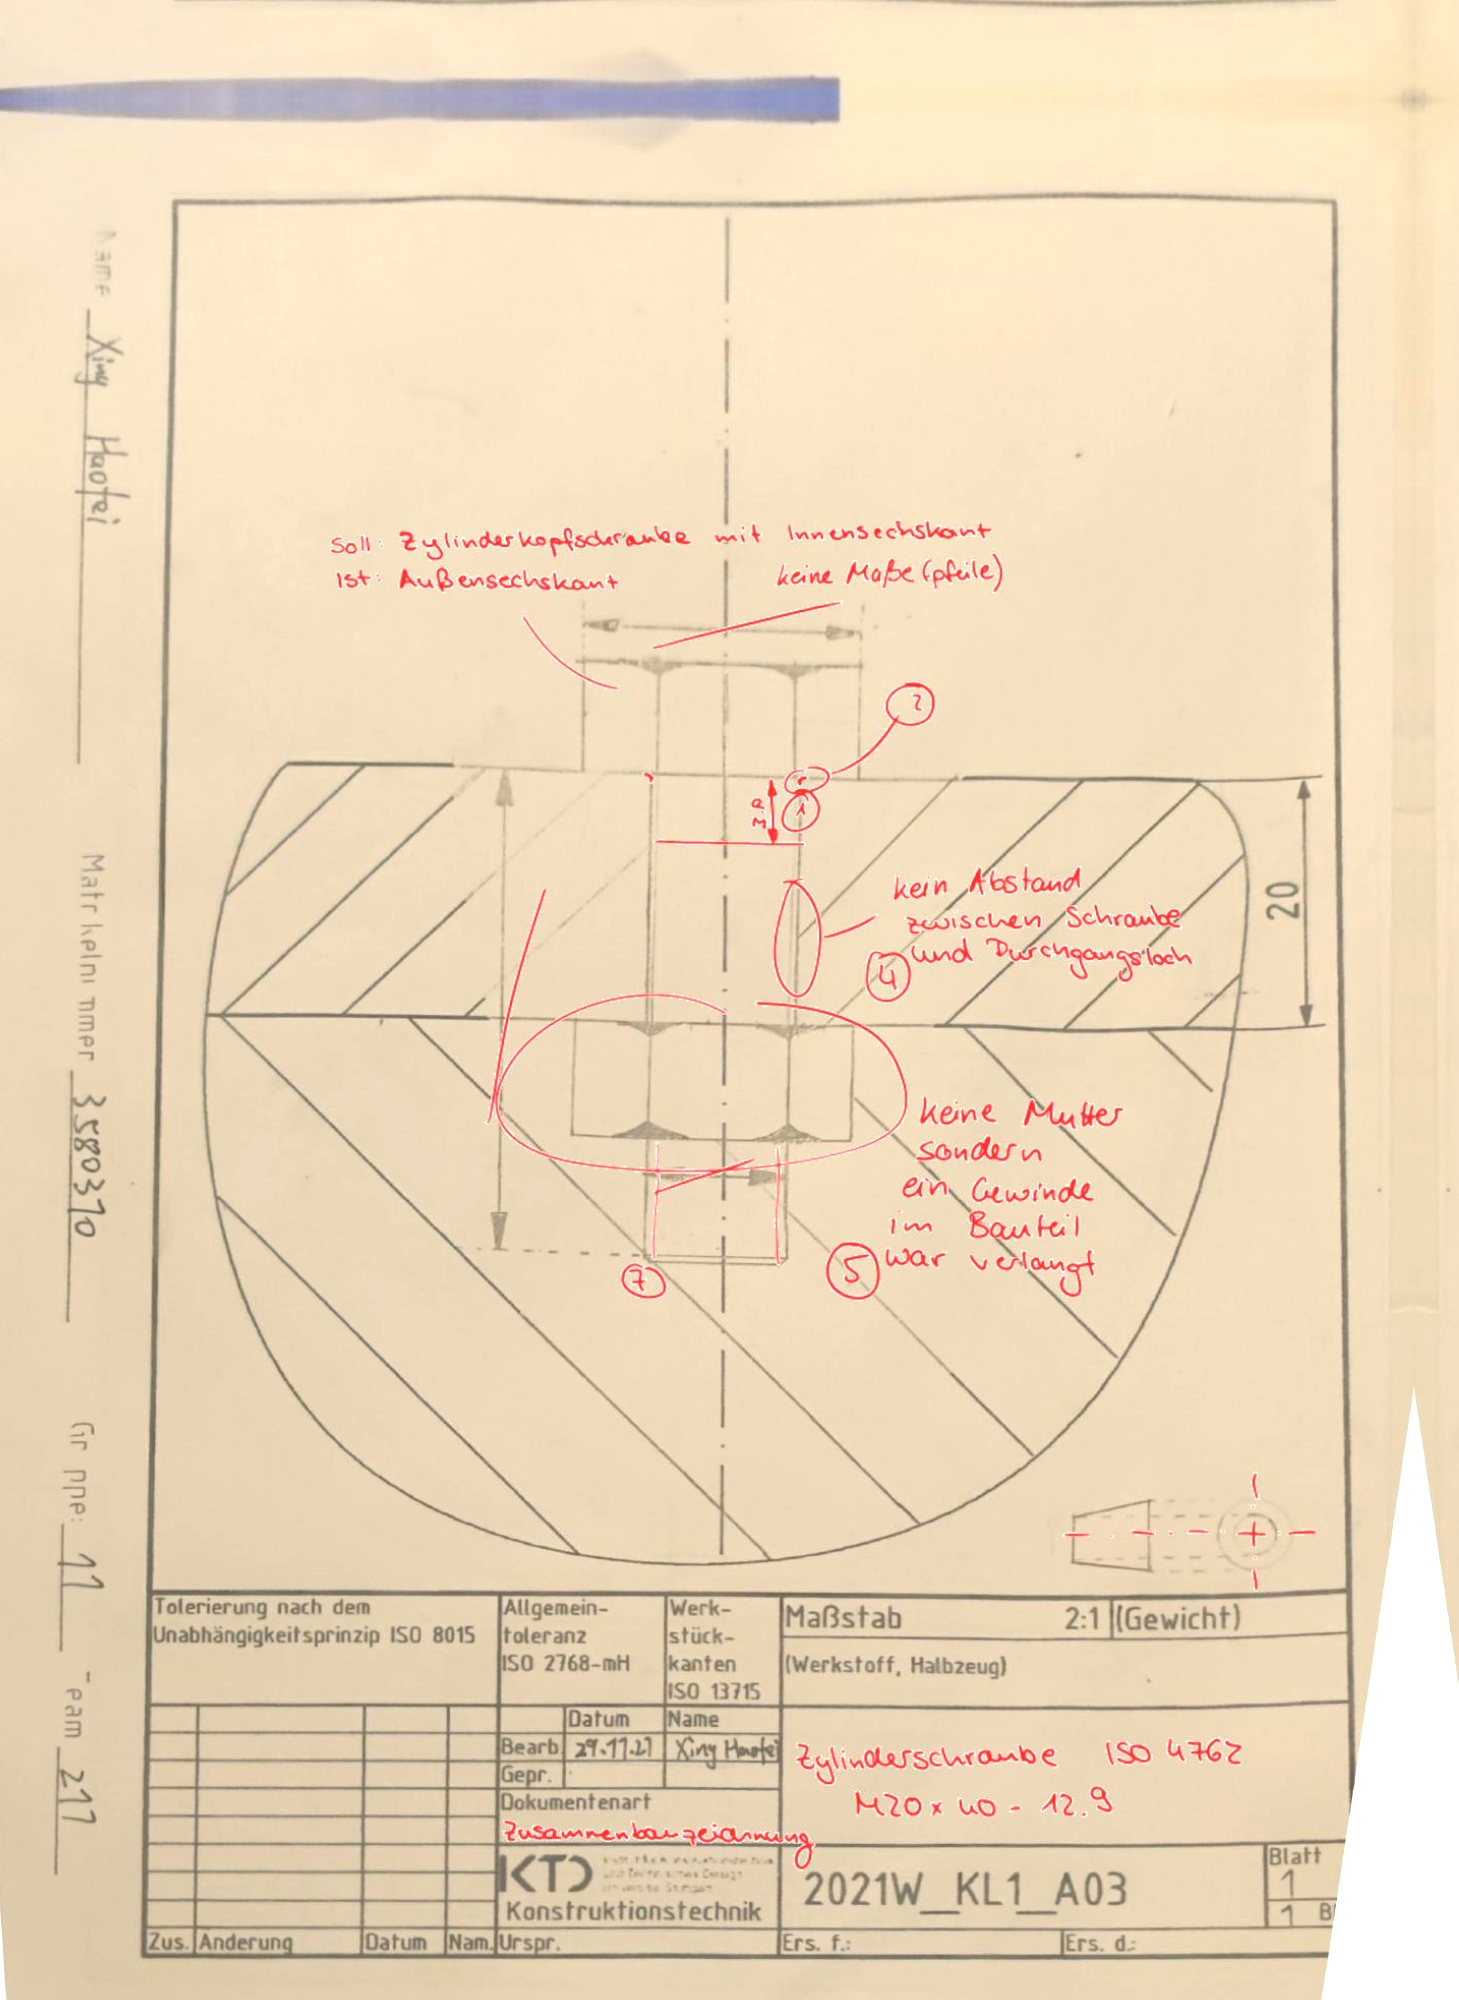Schraube_01-fehler-briete kleine-y: (306, 495, 1110, 661), (781, 1082, 1169, 1311), (751, 846, 1246, 1017), (785, 1707, 1336, 1835)
